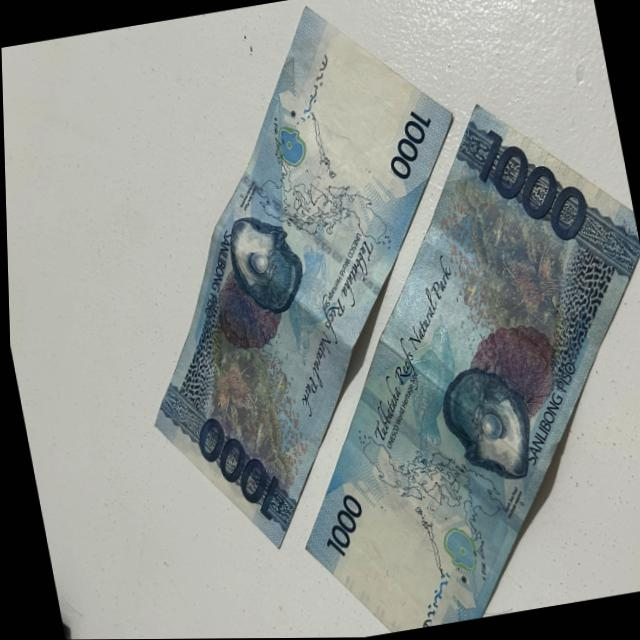1000_pearl: (439, 365, 536, 478), (223, 223, 303, 314)
1000_pearl_watermark: (439, 527, 476, 574), (273, 125, 312, 168)
